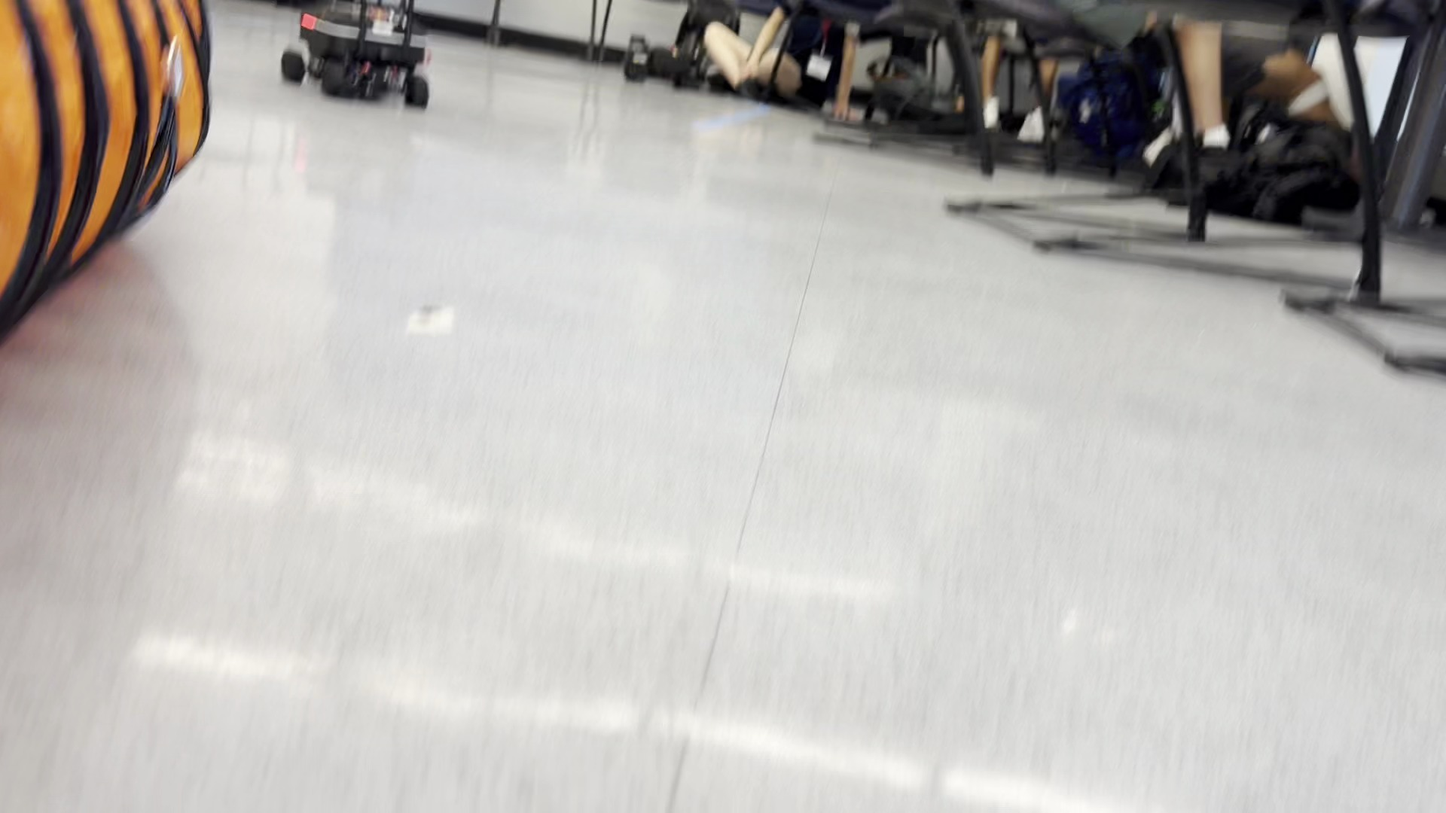racecar: (282, 0, 432, 104)
